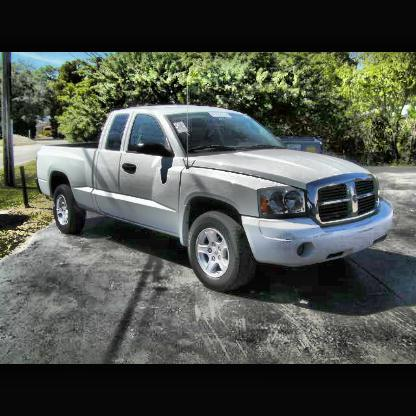Dodge Dakota Club Cab 2007: (37, 105, 396, 292)
